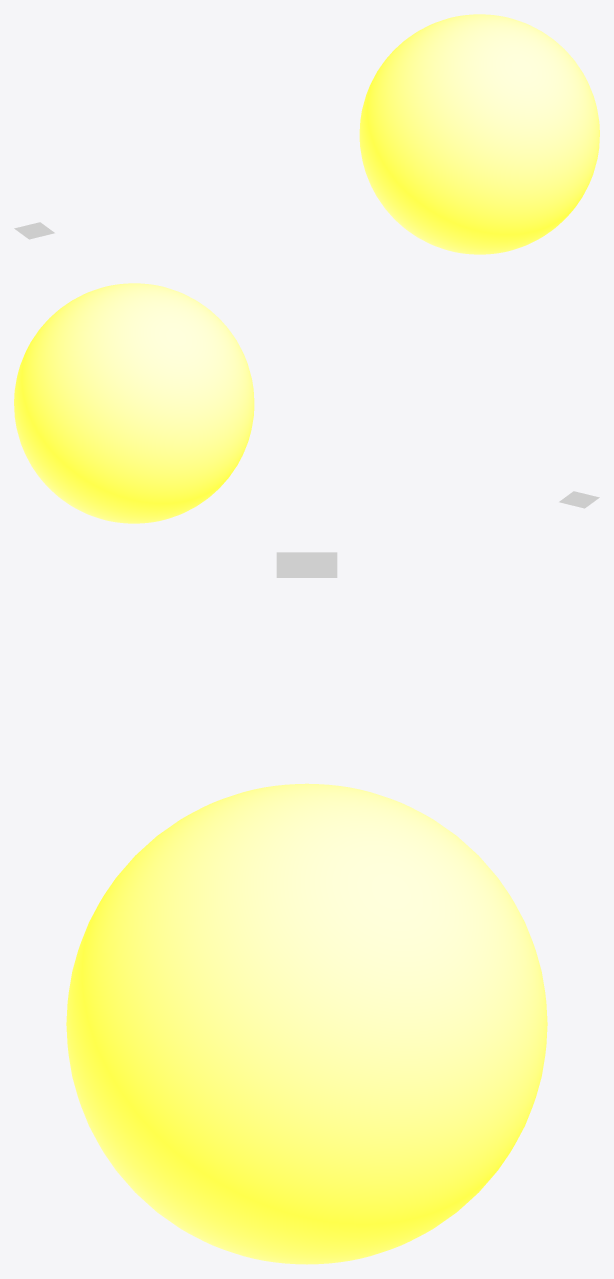
File: Animations.glb
3 views of the same model, one above another, from view 1: azimuth 30°, elevation 25°; view 2: azimuth 150°, elevation 25°; view 3: azimuth 270°, elevation 25° (orthographic). The views are drawn at different scales.
Parts seen in each view (by area): view 1: Сфера, Плоскость; view 2: Сфера, Плоскость; view 3: Сфера, Плоскость.
Boxes of the visible parts, bbox=[...] form: Сфера: bbox=[359, 14, 599, 254]; Плоскость: bbox=[14, 222, 54, 239]; Сфера: bbox=[14, 283, 254, 523]; Плоскость: bbox=[559, 491, 599, 508]; Сфера: bbox=[66, 783, 547, 1264]; Плоскость: bbox=[276, 552, 337, 577].
Bounding box in the file's own units: 12.63 × 4.68 × 4.68.
